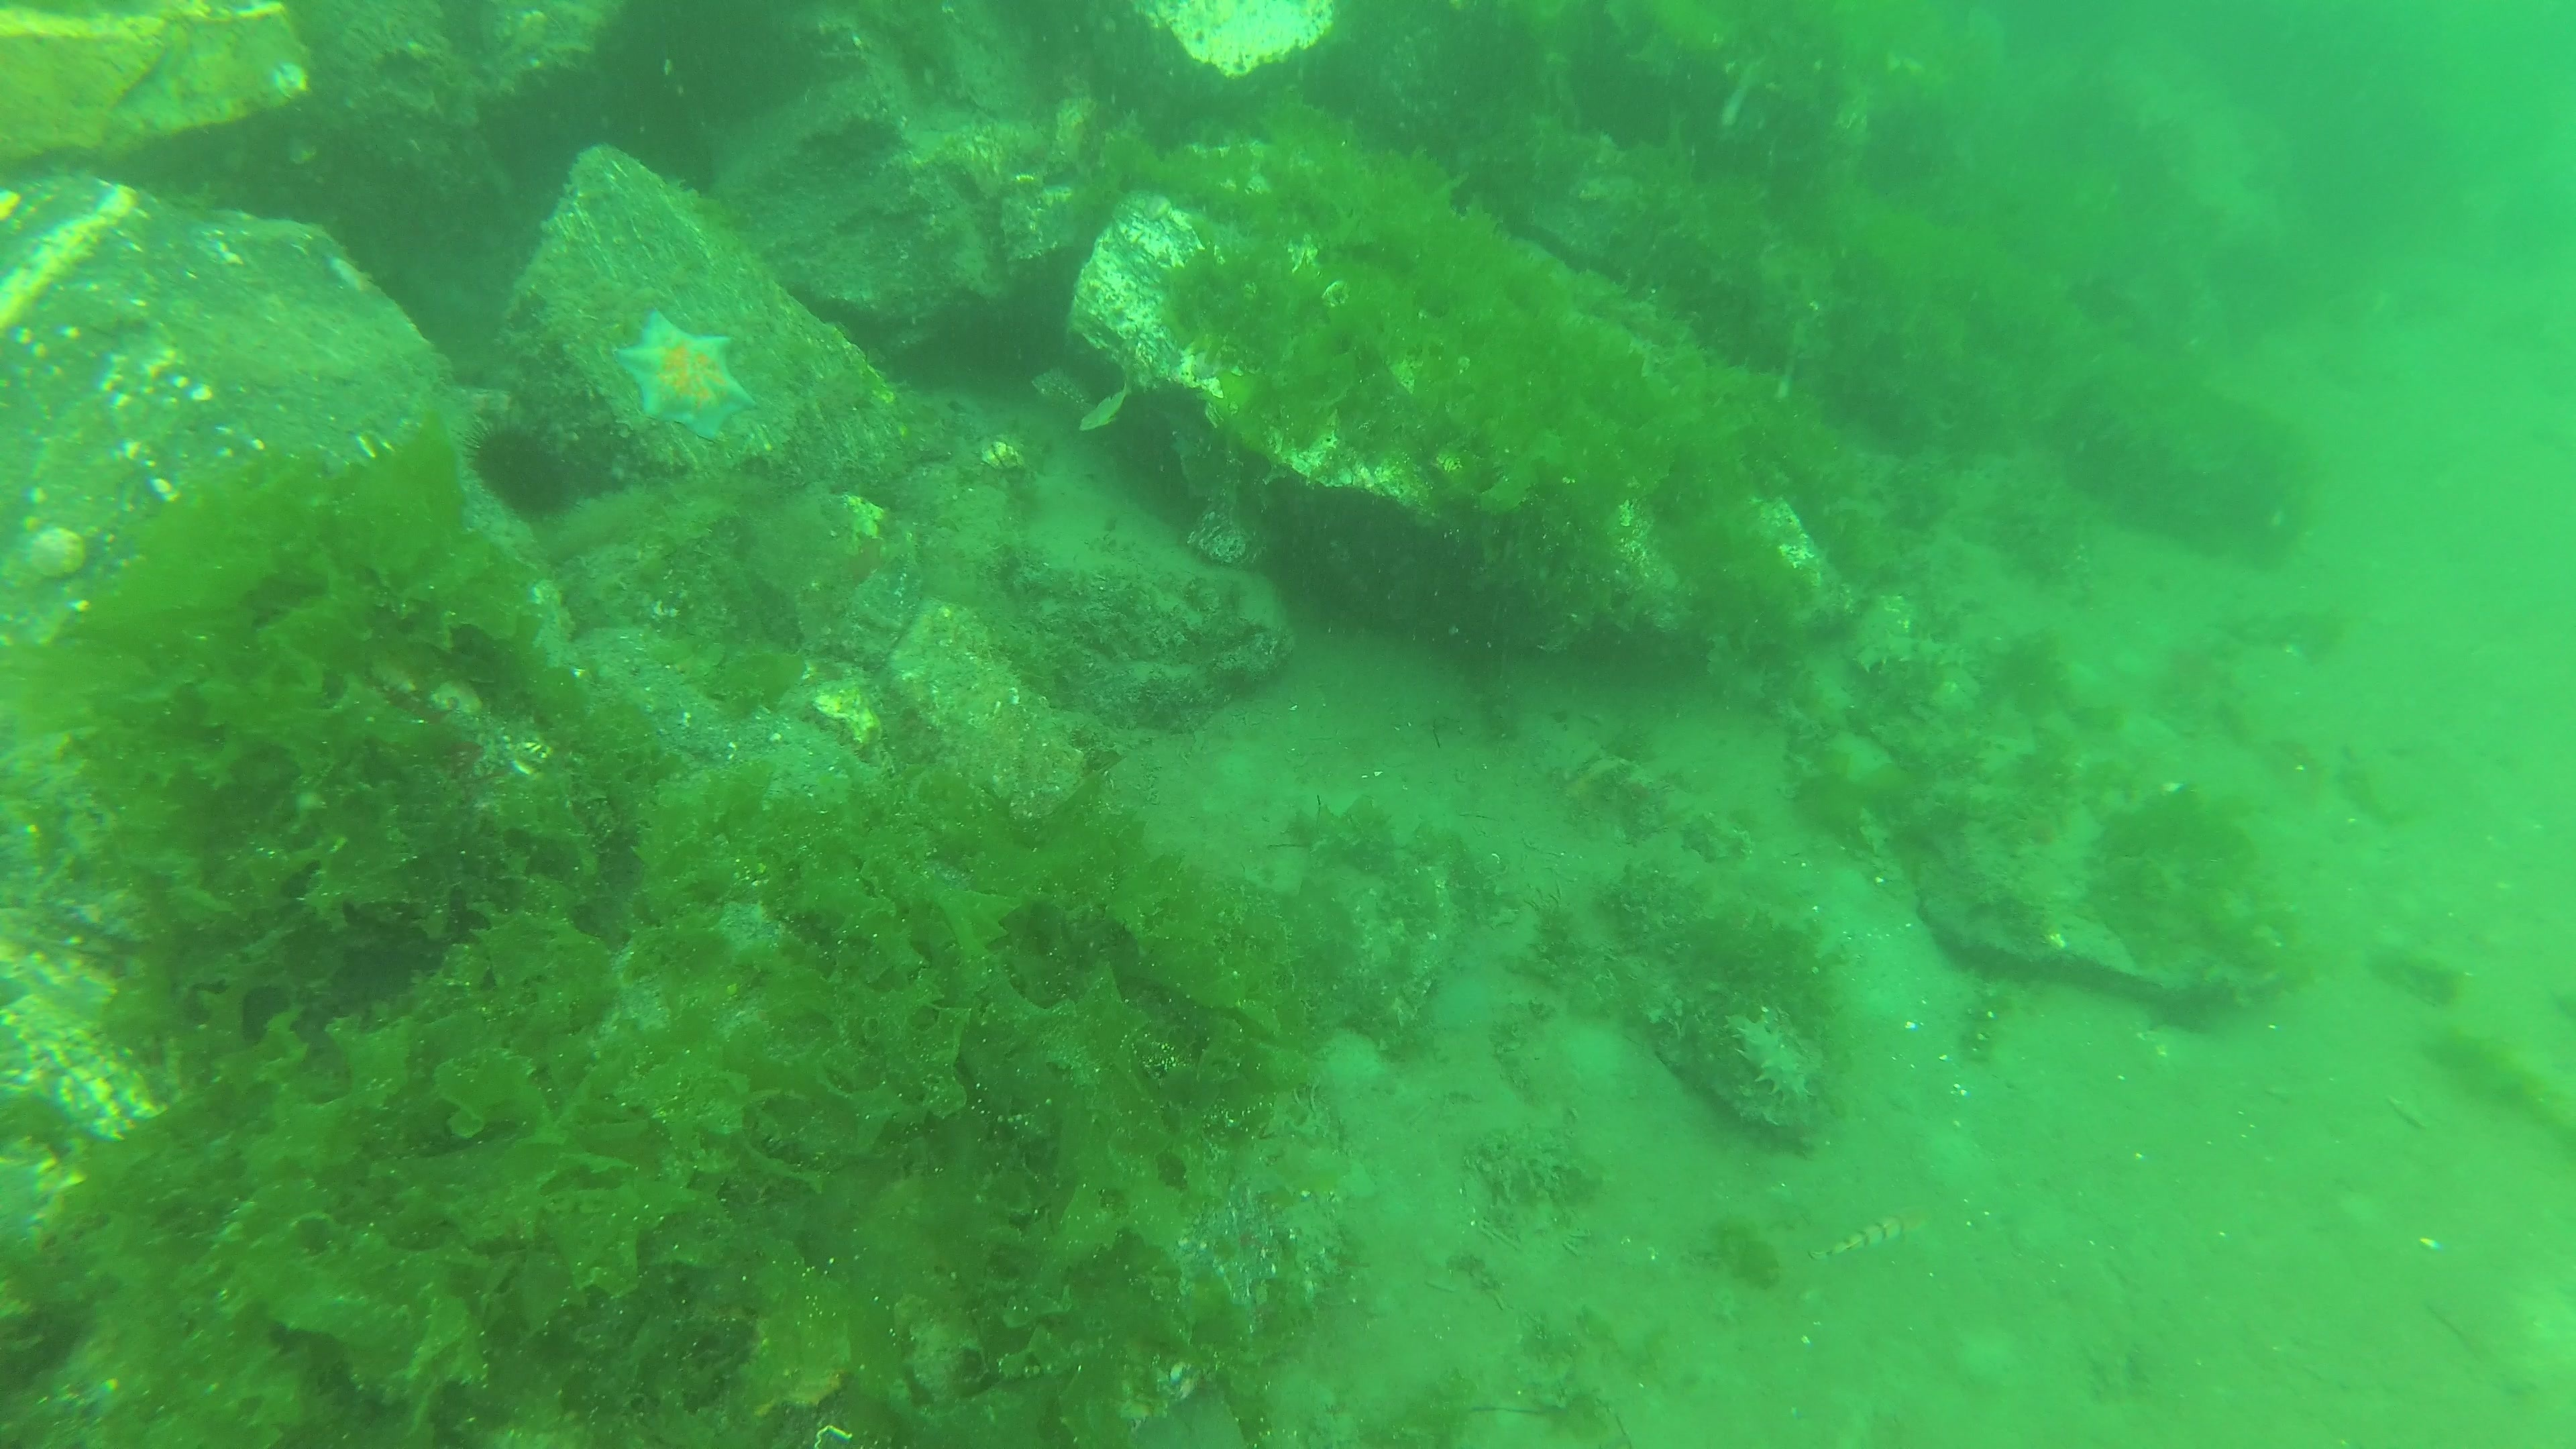echinus: (458, 410, 577, 527)
holothurian: (1709, 1001, 1822, 1116)
starfish: (605, 306, 757, 441)
